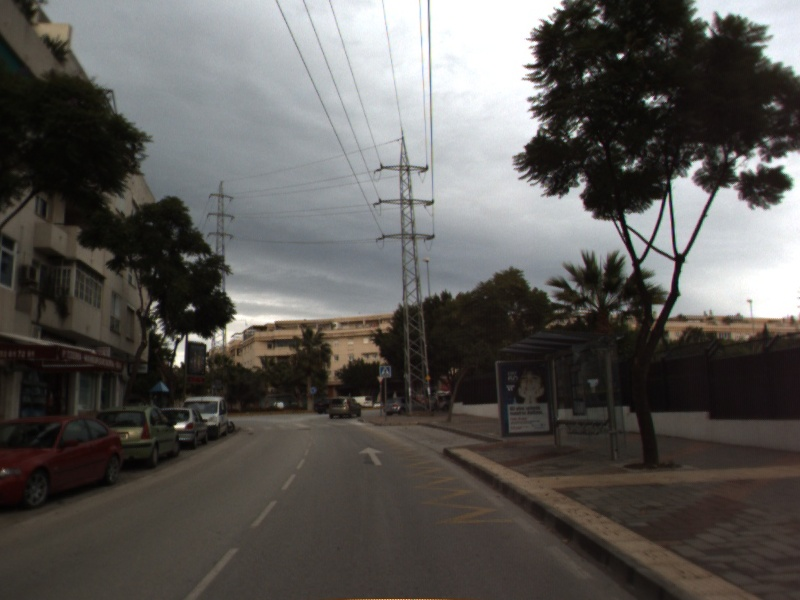STRAIGHT: (356, 445, 386, 467)
